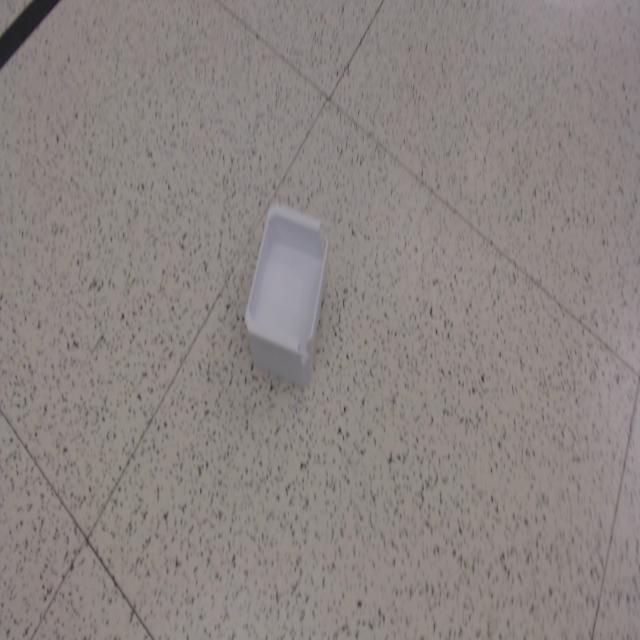wbox: (242, 201, 330, 389)
